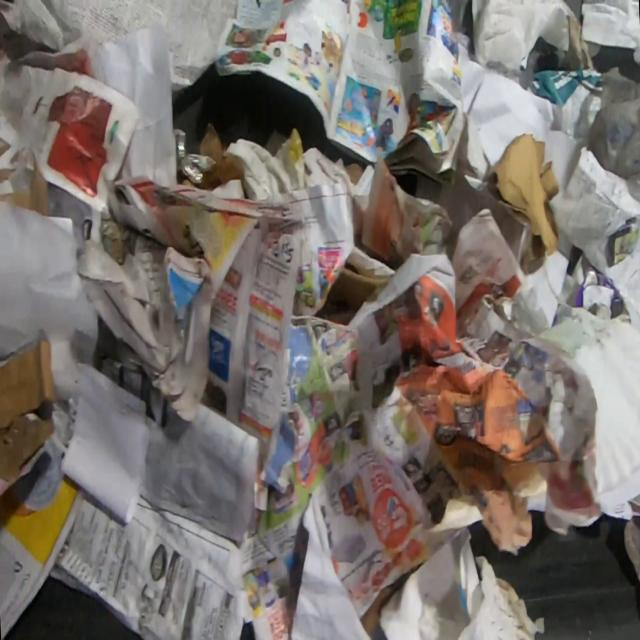cardboard: (486, 131, 562, 270), (0, 339, 55, 481), (313, 260, 392, 326), (176, 122, 245, 190)
soft_plastic: (572, 66, 640, 201), (173, 128, 216, 185)
